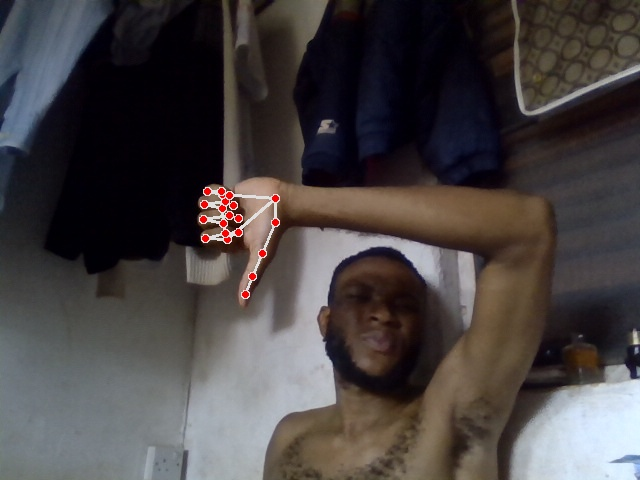thumbsdown: (197, 175, 289, 311)
